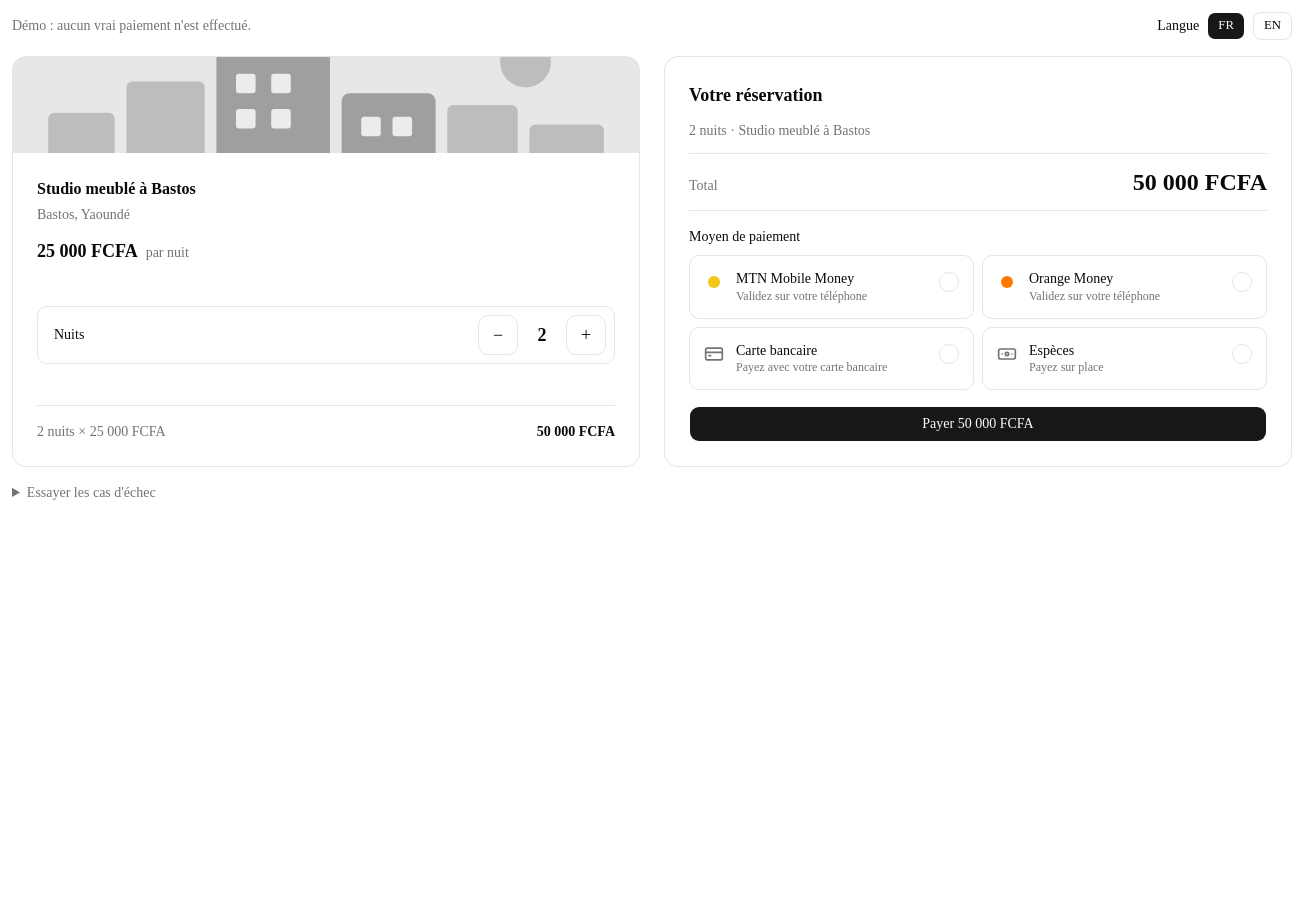
Test: <BookingDemo /> paying › pays with cash and shows a receipt for this booking
The image size is (1304, 912).
Click the radio button labelled "Espèces Payez sur place": x=1052, y=350 [982,326,1267,390]
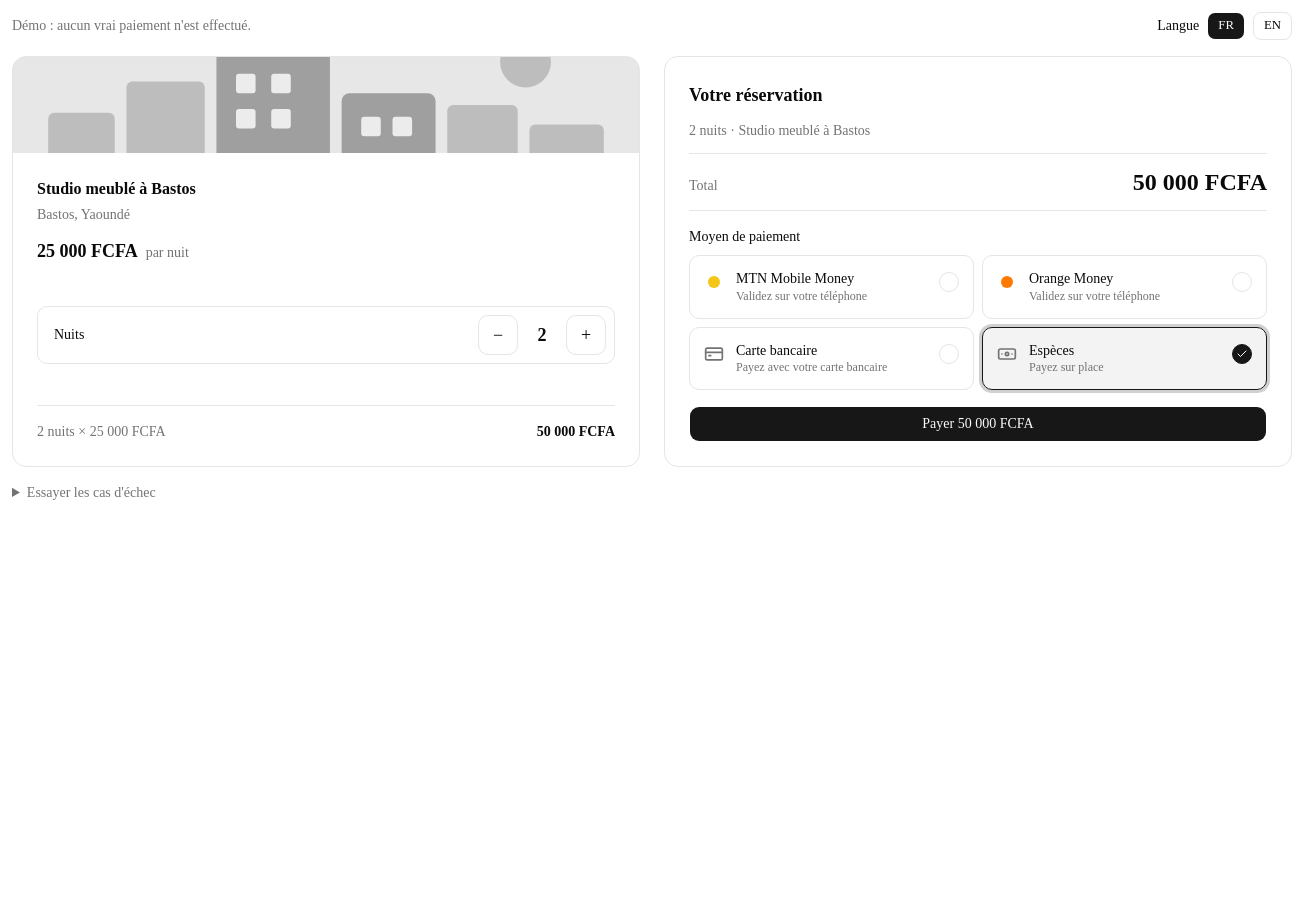
Click the button "Payer 50 000 FCFA": x=978, y=424 [689,406,1267,442]
Wait 600 ms
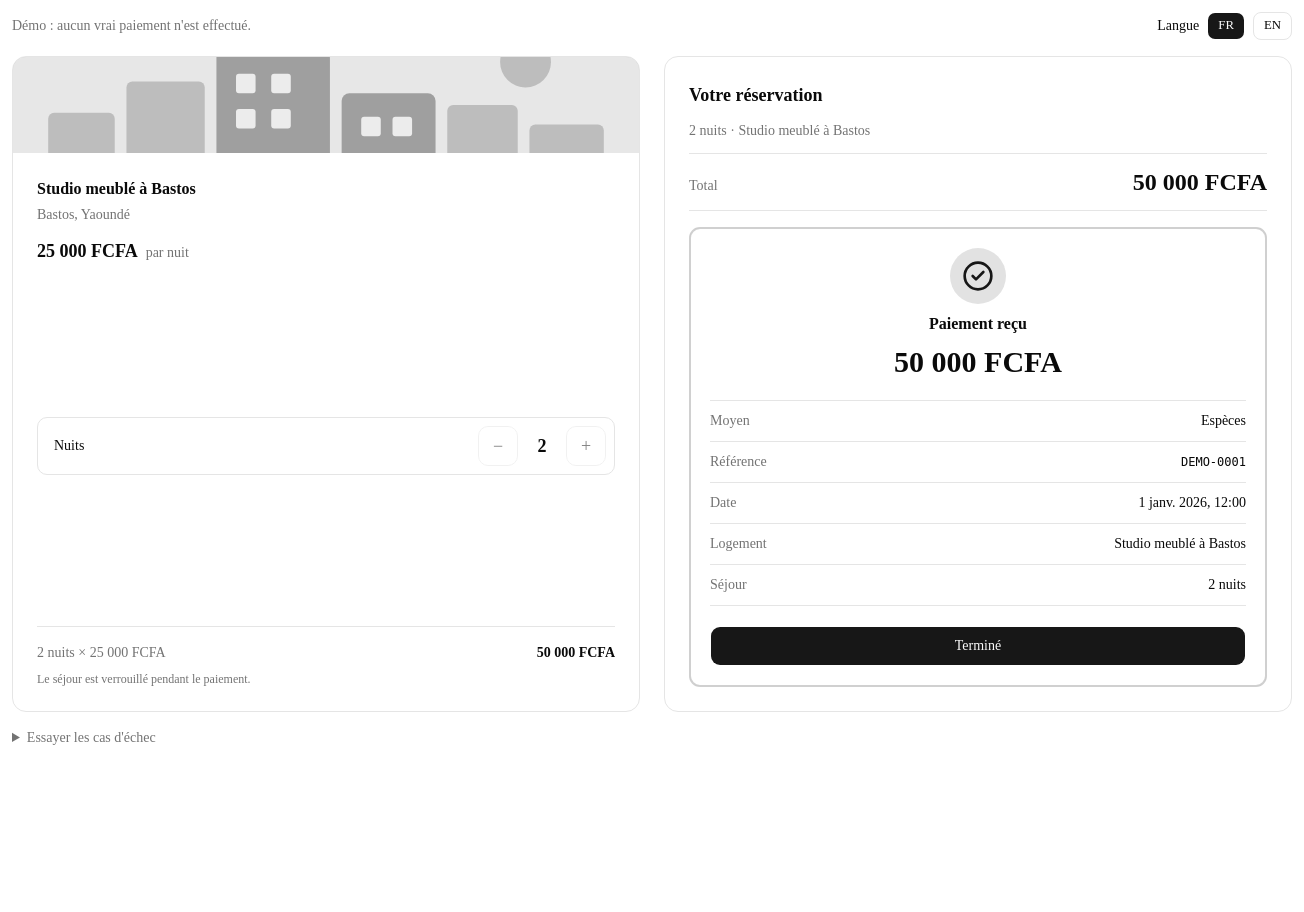
Expected: the element "Paiement reçu" shows "Studio meublé à Bastos", [1114,536,1246,551]
Expected: the element "Paiement reçu" shows "2 nuits", [1208,577,1246,592]
Expected: the element "Paiement reçu" shows "DEMO-0001", [1181,455,1246,469]
